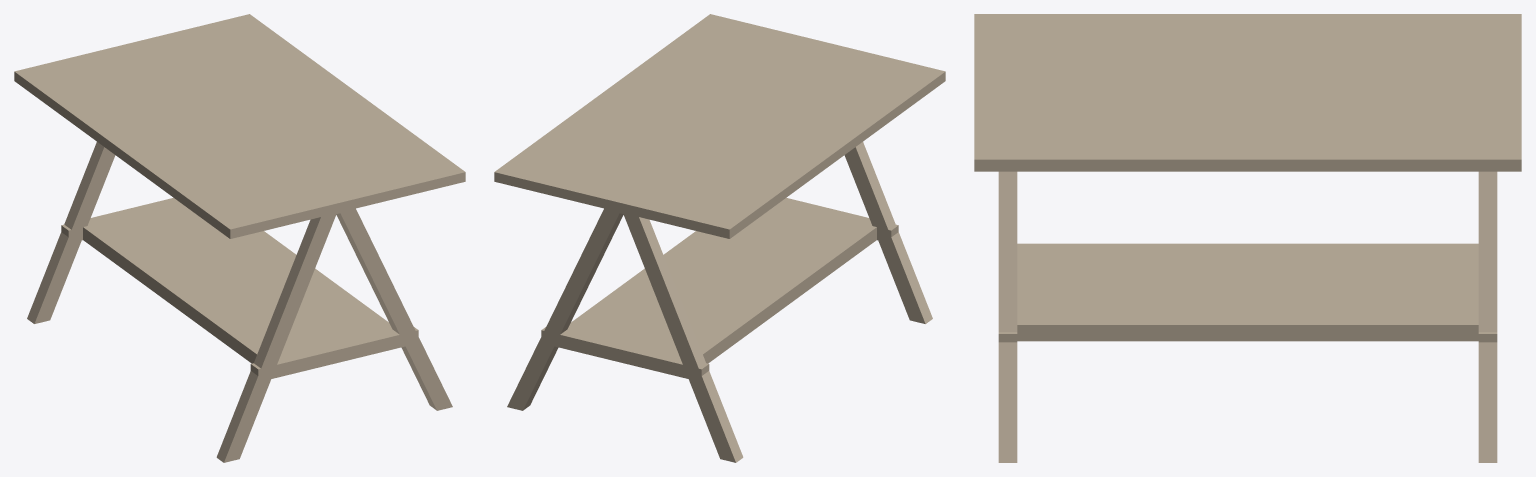
Rendered from 3dcodebench_SimpleDesk_seed0_L4_Q0__gemini4argon.glb.
The picture shows the model from 3 angles, left to right: view 1: azimuth 30°, elevation 25°; view 2: azimuth 150°, elevation 25°; view 3: azimuth 270°, elevation 25°; orthographic projection. The views are drawn at different scales.
Parts seen in each view (by area): view 1: object; view 2: object; view 3: object.
Part boxes in pixels (x1,y1,x2,y2): object: (14,14,465,462); object: (494,14,945,462); object: (974,14,1521,462).
Bounding box in the file's own units: 0.7452 × 0.7293 × 1.18.
